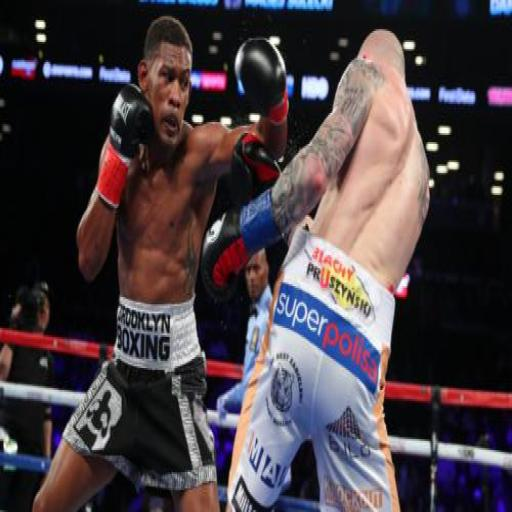boxing: (30, 15, 290, 510), (201, 26, 431, 510)
